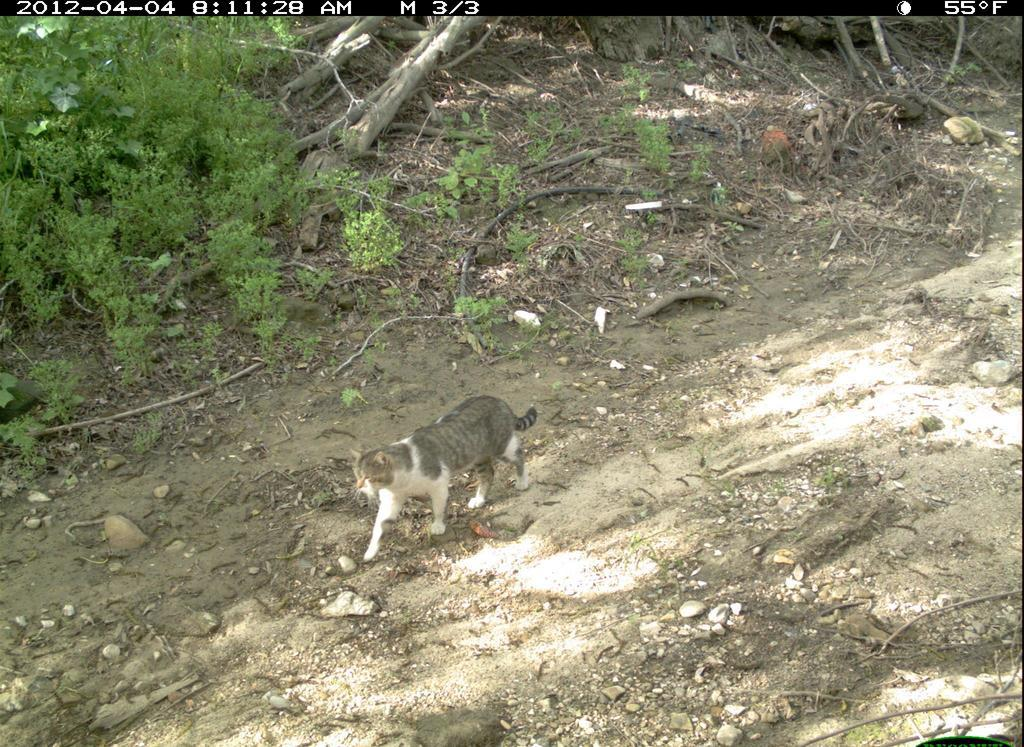cat: (345, 387, 550, 566)
